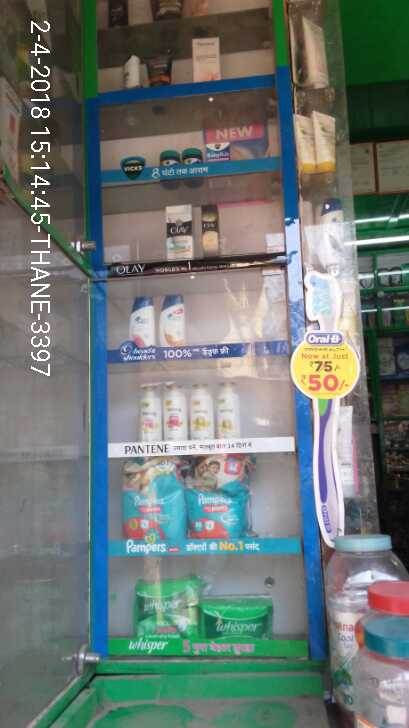vicks: (158, 140, 235, 186)
